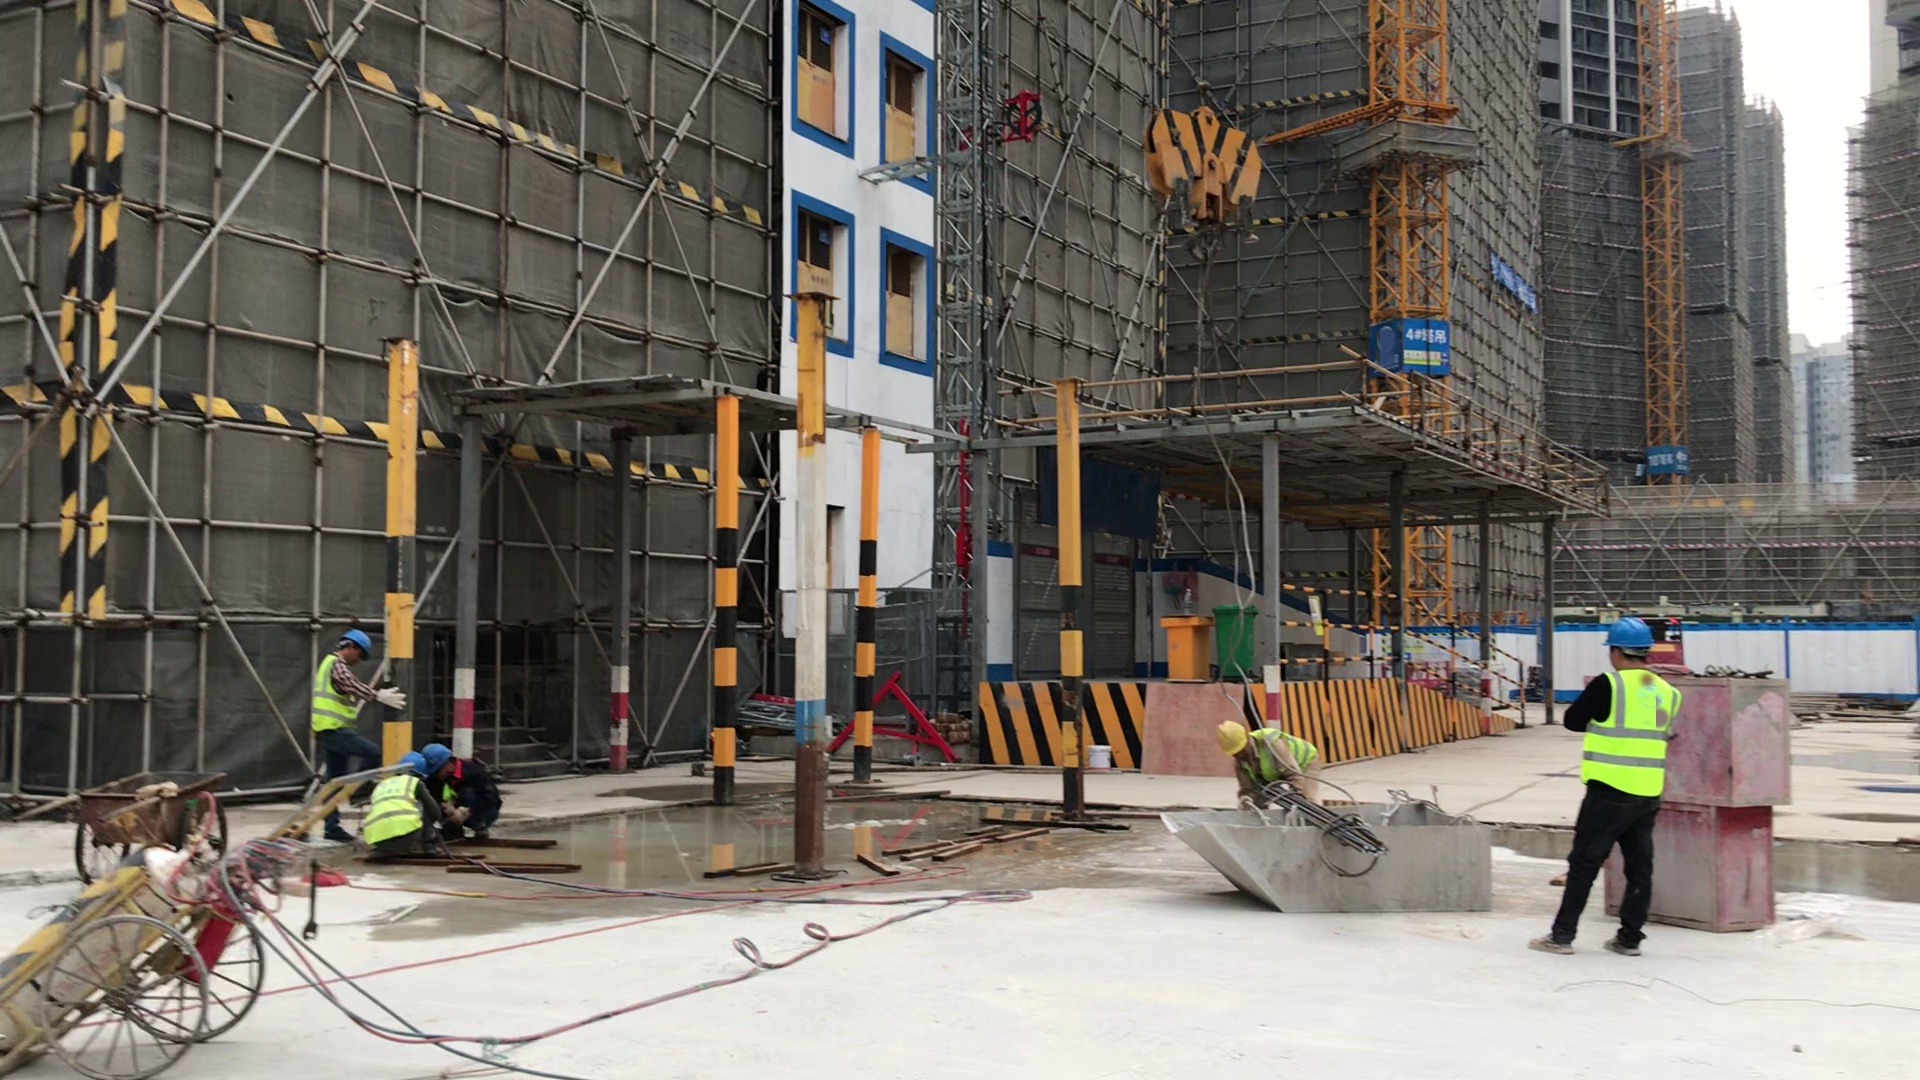fence: (1271, 573, 1542, 730)
handcart: (2, 718, 417, 1080), (10, 749, 249, 873)
helmet: (1602, 612, 1659, 665), (417, 735, 458, 781), (1212, 710, 1252, 756), (339, 624, 377, 660), (399, 746, 425, 780)
hook: (1113, 82, 1290, 295)
hopper: (1163, 768, 1510, 928)
person: (1523, 610, 1690, 970), (1192, 693, 1343, 823), (300, 612, 396, 816), (423, 730, 515, 861), (362, 746, 444, 862)
rebar: (1271, 788, 1404, 869)
slogan: (1345, 305, 1456, 393), (1472, 239, 1553, 334), (1626, 431, 1692, 485)
vest: (1580, 661, 1678, 808), (1225, 715, 1321, 793), (360, 762, 432, 858), (302, 651, 379, 739)
